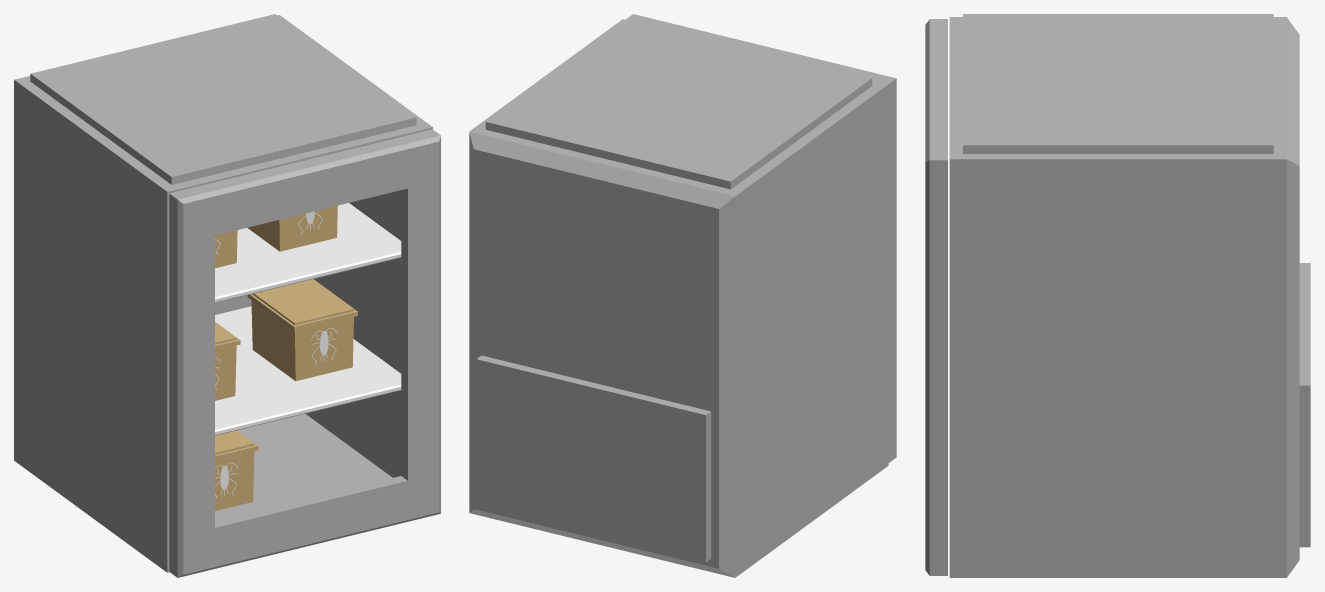
File: grillen.glb
3 renders of one model, left to right at view 1: azimuth 30°, elevation 25°; view 2: azimuth 150°, elevation 25°; view 3: azimuth 270°, elevation 25°, orthographic. The views are drawn at different scales.
Visible parts, largest first — view 1: Kammer, Tuer, pCube1, pCube2, box1, box5, box4, box2, box3; view 2: Kammer, Tuer; view 3: Kammer, Tuer.
Part boxes in pixels (x1,y1,x2,y2): Kammer: (14, 14, 432, 572); Tuer: (169, 129, 440, 577); pCube1: (215, 306, 401, 435); pCube2: (215, 203, 401, 302); box1: (247, 279, 357, 381); box5: (215, 430, 258, 510); box4: (247, 205, 337, 251); box2: (215, 322, 240, 400); box3: (215, 230, 237, 268); Kammer: (469, 18, 888, 577); Tuer: (627, 14, 896, 462); Kammer: (949, 14, 1310, 577); Tuer: (925, 19, 947, 575).
Size of the model in its own units: 0.1023 by 0.1431 by 0.117.
4 materials, 1 textured.
